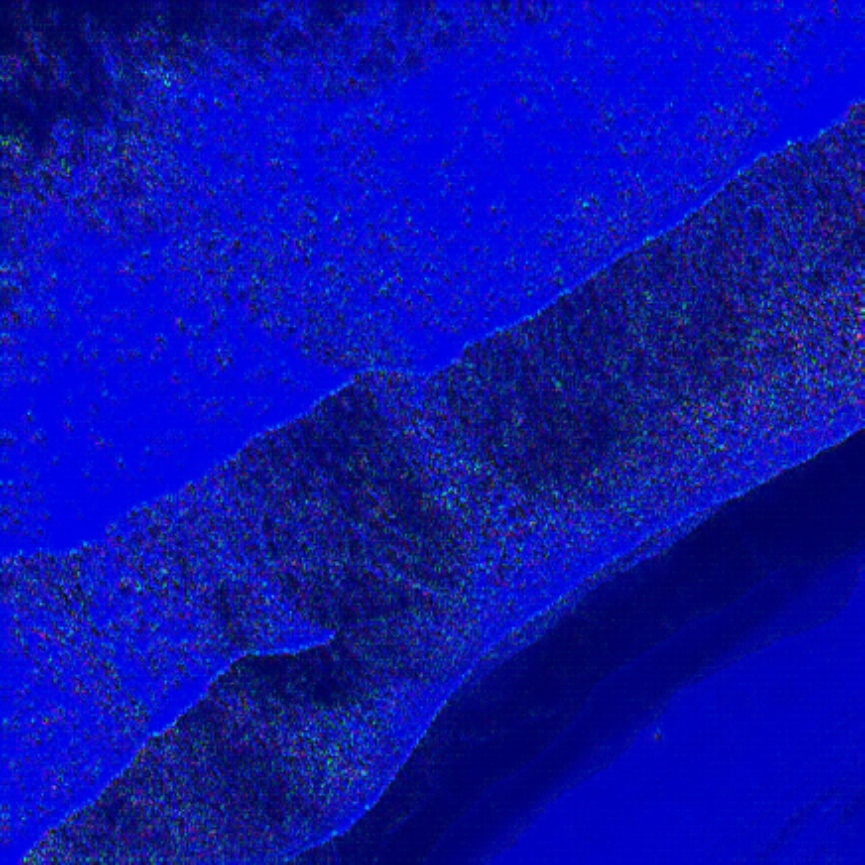rip_current: (123, 285, 495, 649)
